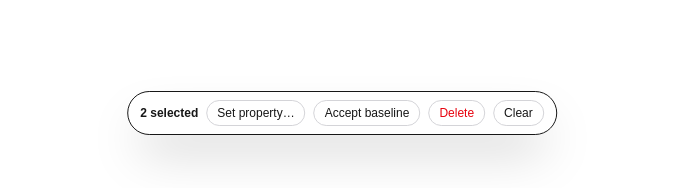
SelectionToolbar (t33 generic field-patch redesign) › shows an 'applies to N of M selected' note for a field that applies to only part of a mixed selection
This screenshot has width=685, height=188.
Click the button "Set property…" at (256, 113), box [206,100,306,126]
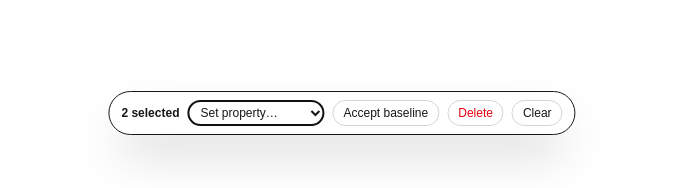
Select "Lane row" in the dropdown named "Set property to" at (256, 113), box [188,100,324,126]
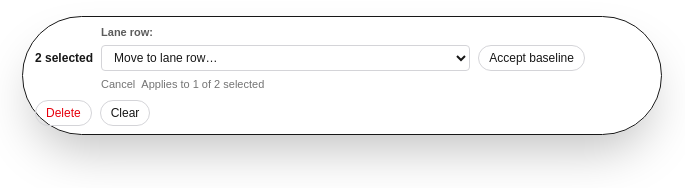
Check: the text "Applies to 1 of 2 selected" is shown, box [141,77,264,92]
